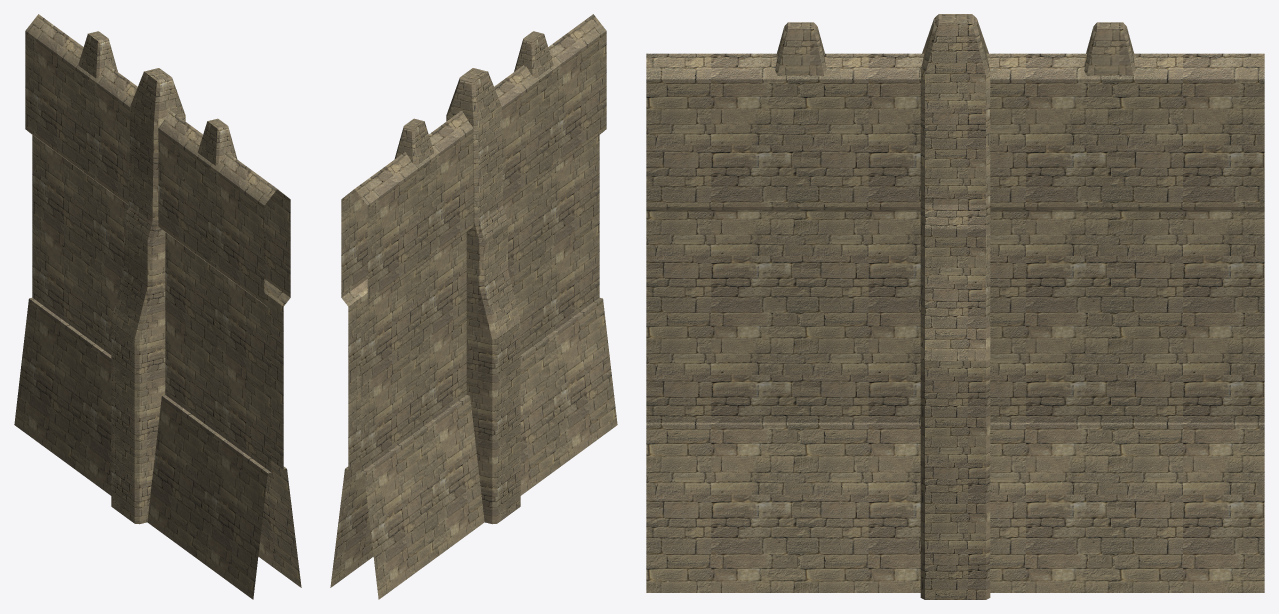
The model's file is Wall_C_2S.FBX.
The picture shows the model from 3 angles, left to right: view 1: azimuth 30°, elevation 25°; view 2: azimuth 150°, elevation 25°; view 3: azimuth 270°, elevation 25°; orthographic projection. The views are drawn at different scales.
Parts seen in each view (by area): view 1: Wall_C_2S; view 2: Wall_C_2S; view 3: Wall_C_2S.
Part boxes in pixels (left/top/right/bottom): Wall_C_2S: left=14, top=14, right=301, bottom=599; Wall_C_2S: left=330, top=14, right=617, bottom=599; Wall_C_2S: left=646, top=14, right=1264, bottom=599.
Bounding box in the file's own units: 203 × 1197 × 1200.
